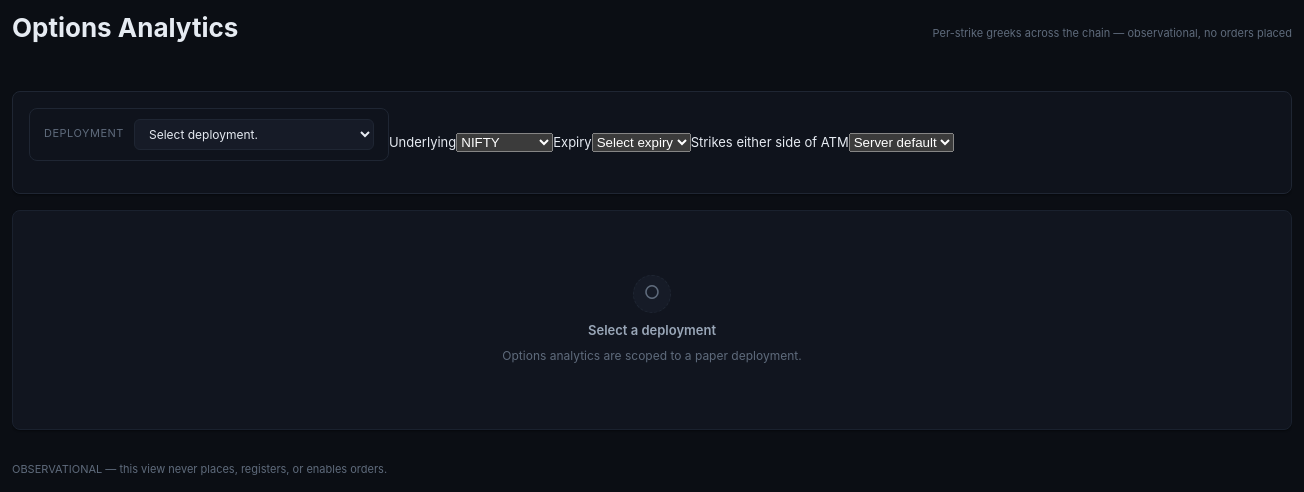
Test: PaperOptionsAnalytics — expiry discovery › shows an empty state instead of a broken dropdown when listing fails
This screenshot has width=1304, height=492.
Select "dep-1 — NSE:SBIN · 1d [active]" in the dropdown named "Select deployment" at (254, 134), box [134,118,374,150]
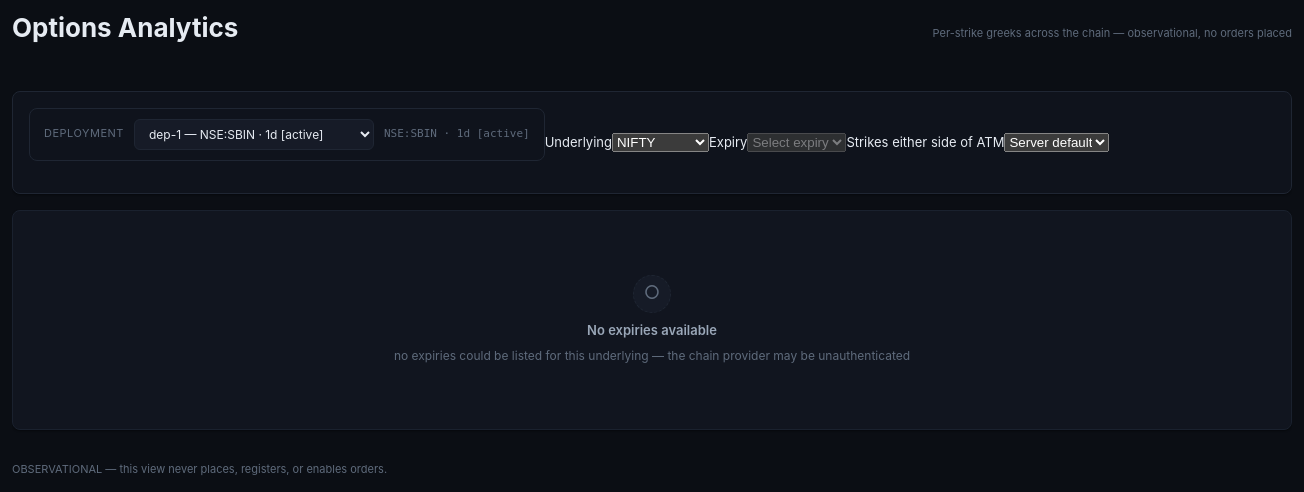
Now the text "No expiries available" is shown, box [587,320,717,339]
Now the text "the chain provider may be unauthenticated" is shown, box [394,348,910,363]
